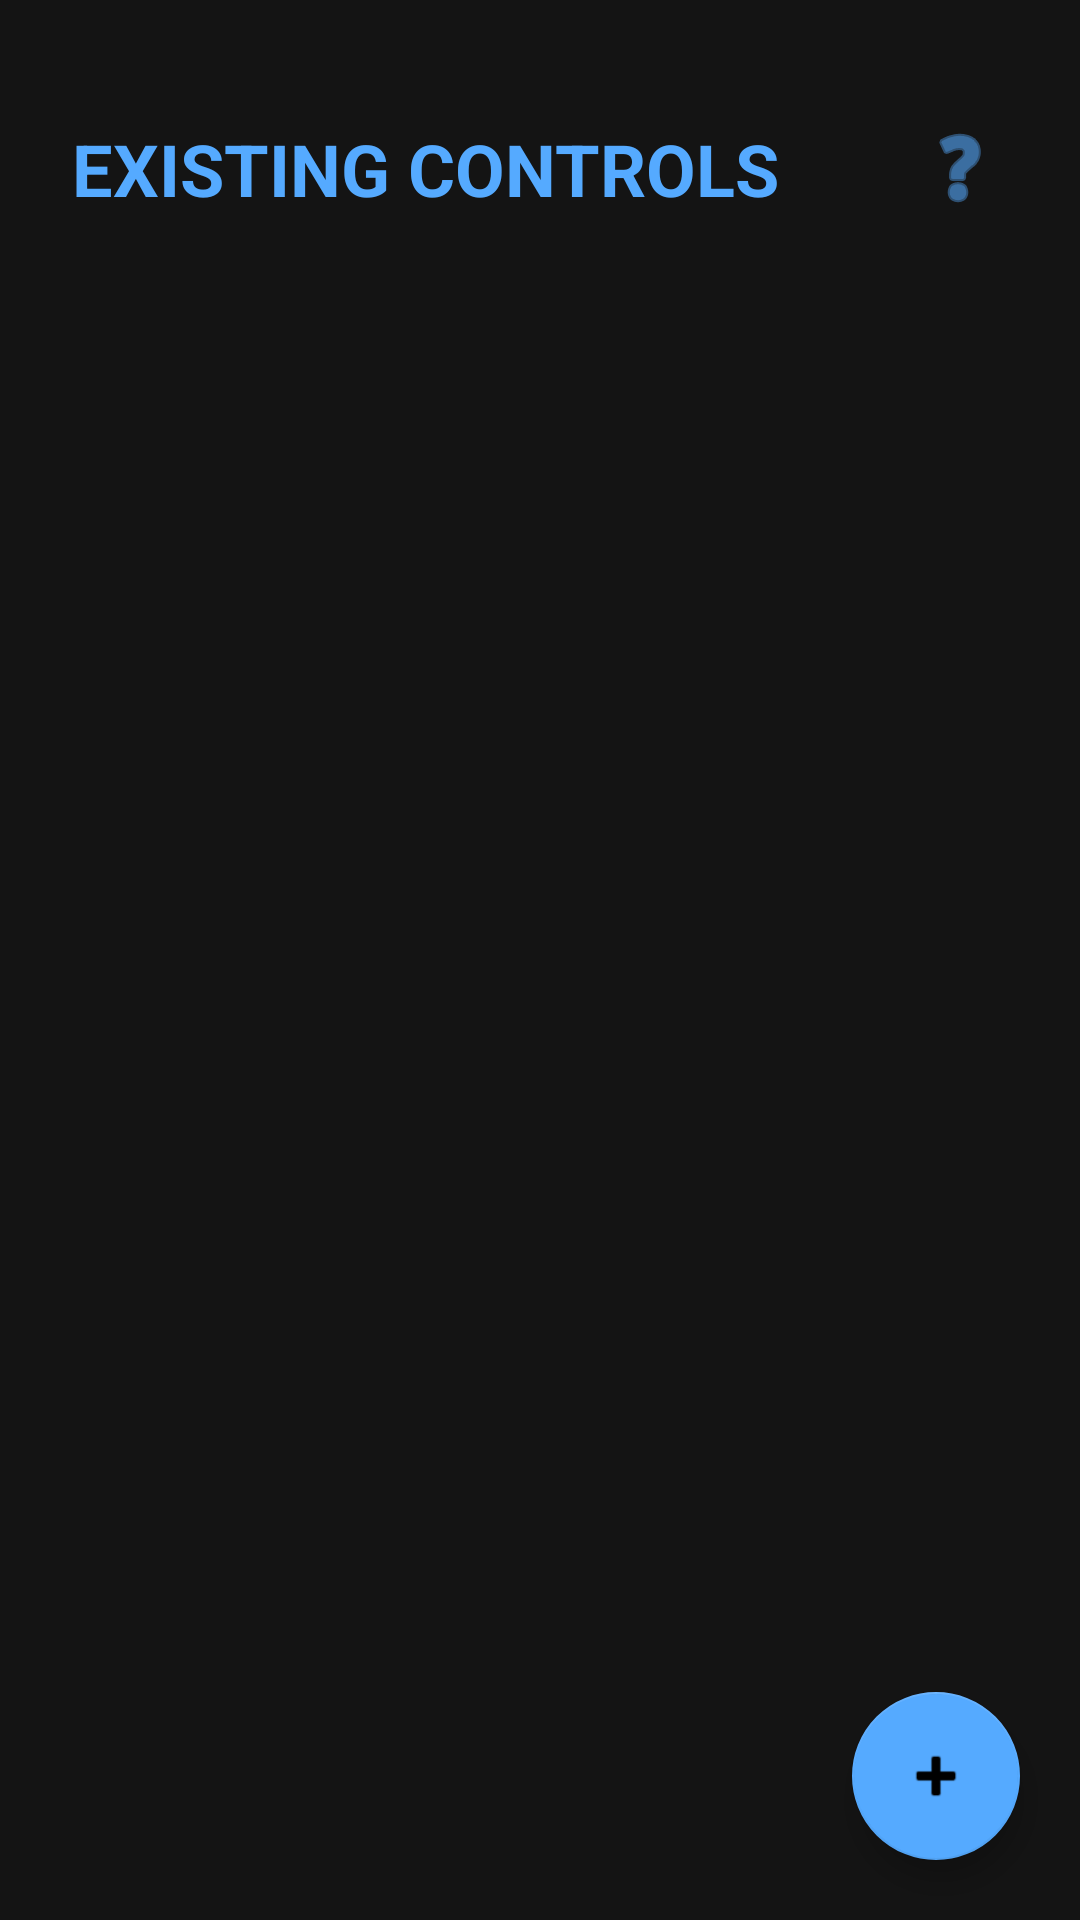

Screen size 1080*1920. Icon name, then its center in pixels as (x,y):
add: (936,1776)
help: (960,168)
